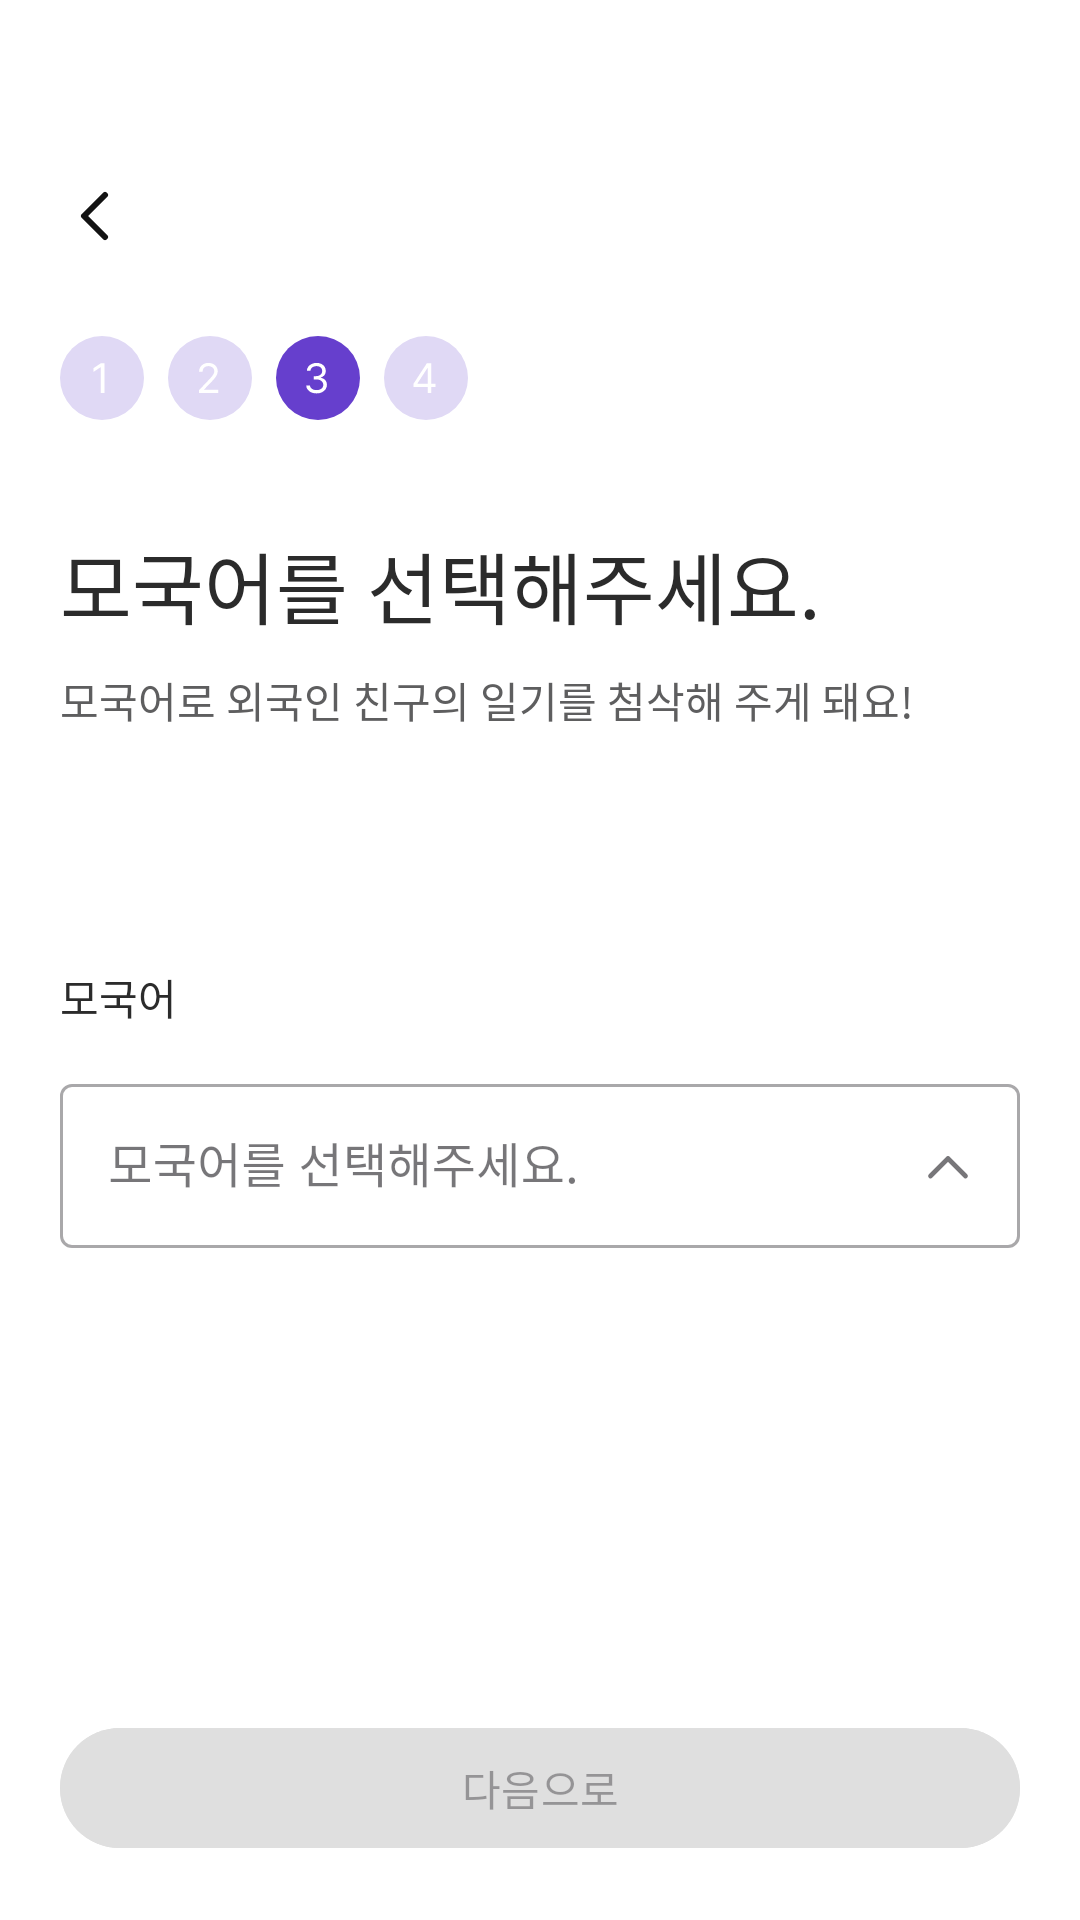

Icon bounding boxes for this 1080px x 1920px phone screenshot, format (x1, y1, x2, y2):
chevron left: (81, 192, 108, 240)
register num: (60, 336, 144, 420), (168, 336, 252, 420), (384, 336, 468, 420)
register num sel: (276, 336, 360, 420)
